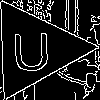U: (9, 24, 53, 72)
